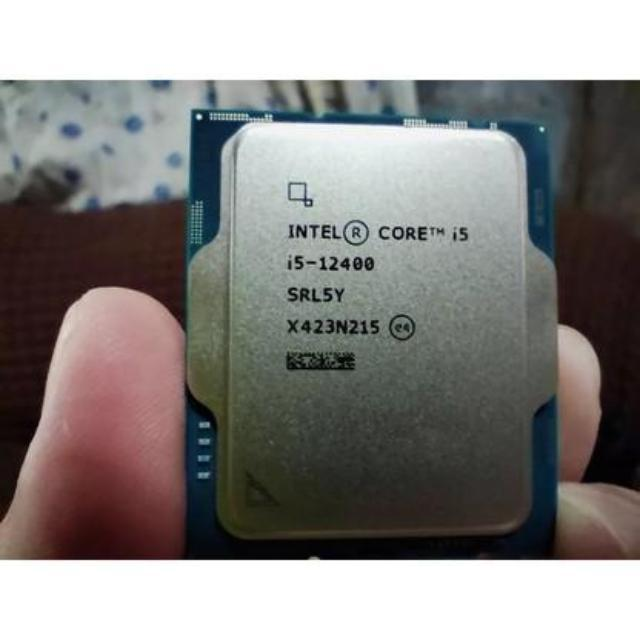CPU: (186, 107, 552, 553)
